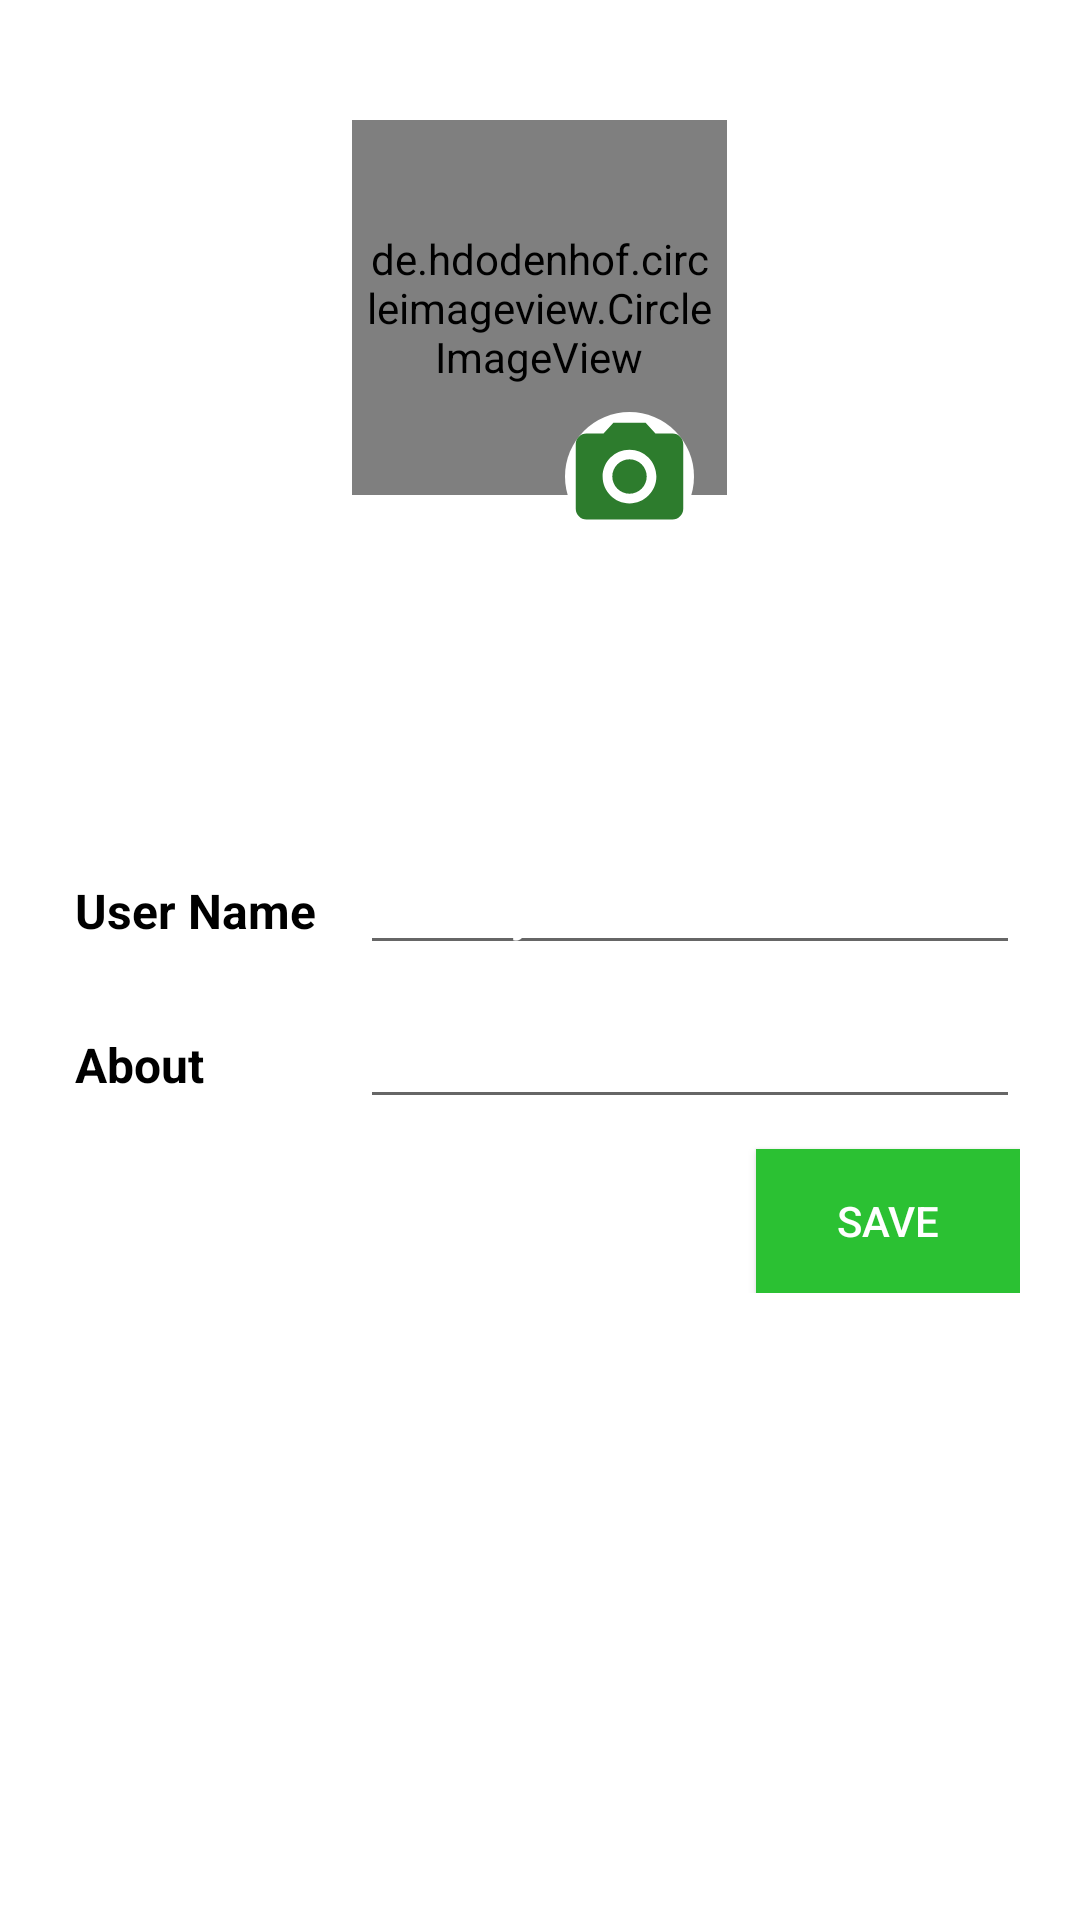

Where to tap for icons on this 1080×1920 app screen, as (x,y):
camera: (629,476)
